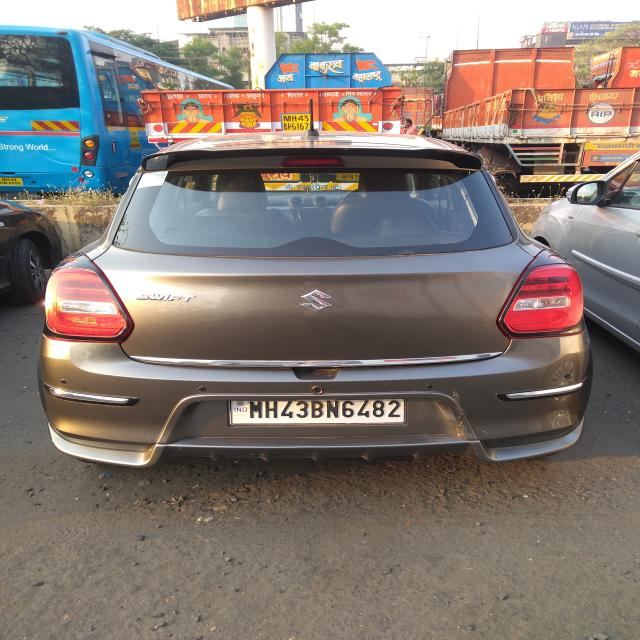Number-Plate: (232, 396, 408, 426)
